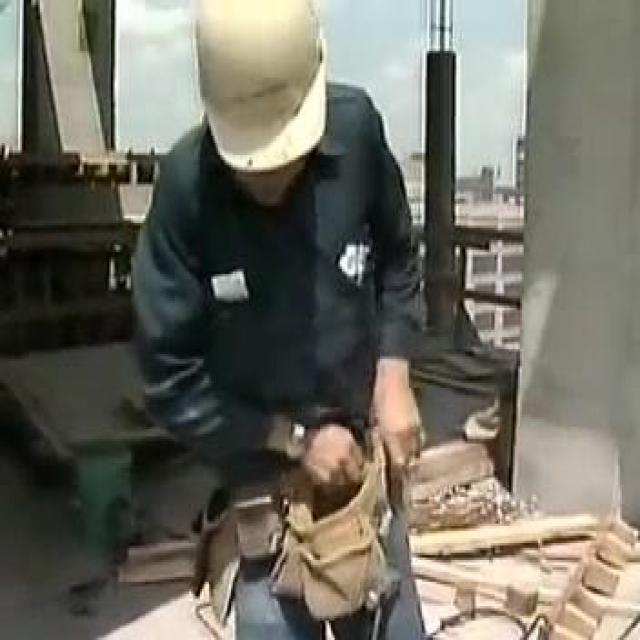Safety-Helmet: (158, 0, 355, 184)
